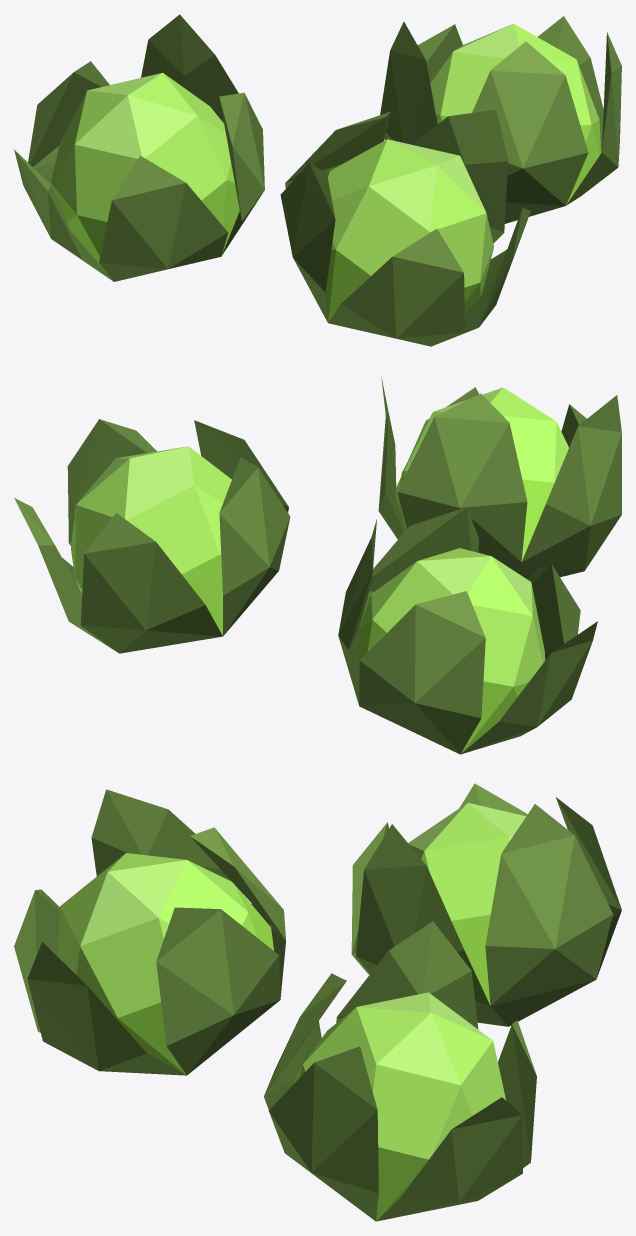
The model's file is spore.gltf.
3 renders of one model, top to bottom at view 1: azimuth 30°, elevation 25°; view 2: azimuth 150°, elevation 25°; view 3: azimuth 270°, elevation 25°, orthographic. The views are drawn at different scales.
Parts seen in each view (by area): view 1: spore.001; view 2: spore.001; view 3: spore.001.
Part boxes in pixels (box(x1,y1,x2,y2)): spore.001: box(14, 14, 621, 346); spore.001: box(14, 377, 621, 754); spore.001: box(14, 783, 621, 1221).
Bounding box in the file's own units: 0.1809 × 0.0675 × 0.1507.
1 material, 1 textured.
